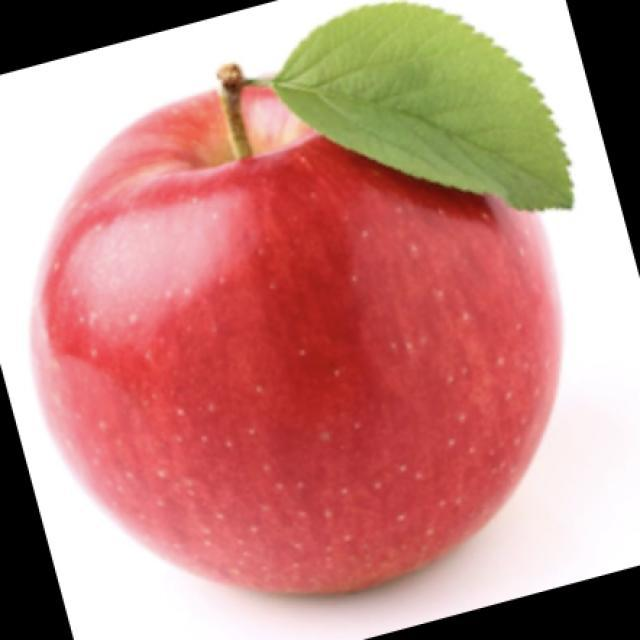Fresh Apple: (58, 90, 570, 597)
